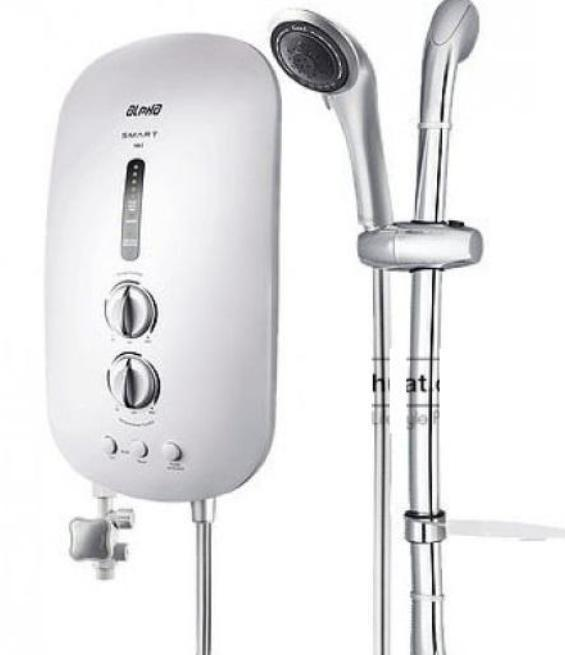Ducha: (34, 0, 500, 655)
